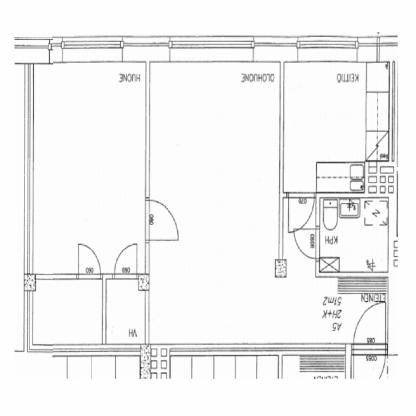door: (346, 293, 390, 383), (145, 202, 179, 242), (294, 226, 321, 268), (289, 193, 317, 232), (115, 240, 137, 283), (76, 242, 100, 281)
zone: (151, 60, 387, 341), (35, 64, 143, 274), (285, 61, 387, 194), (30, 277, 102, 346), (320, 199, 386, 272), (108, 275, 144, 341)
